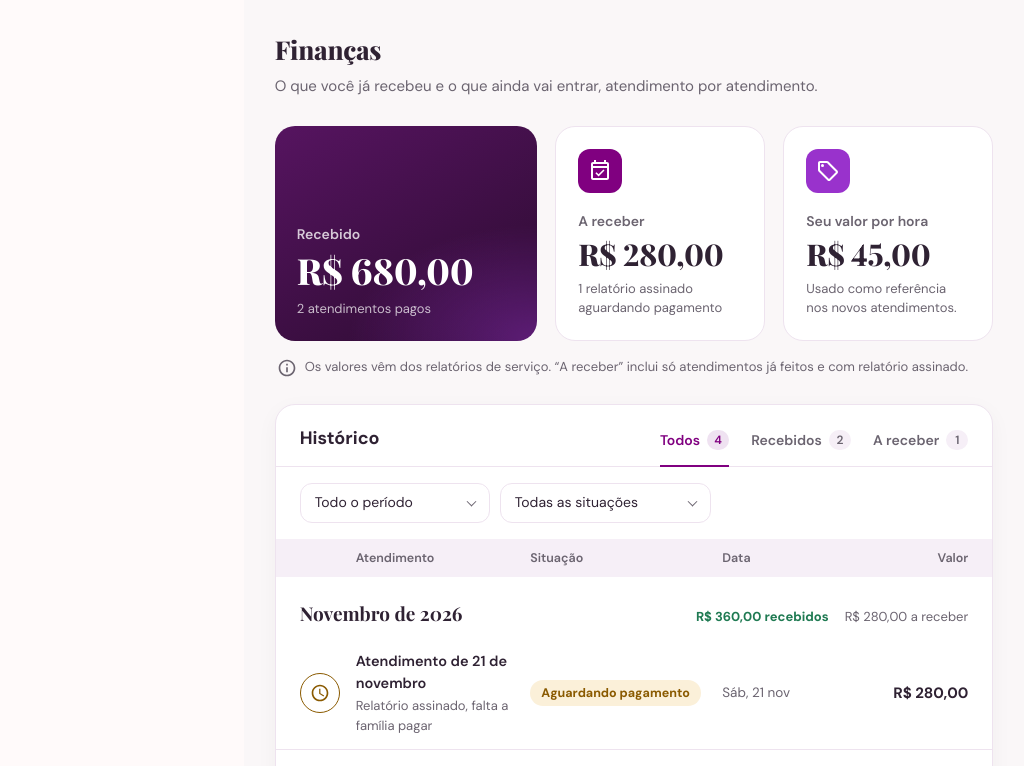
Test case: Finanças do cuidador › filtra por situação e oferece limpar quando nada sobra
Expected: the text "R$ 680,00" is shown, [297,251,473,291]
Select "Reembolsado" in the 2nd dropdown named "Situação" at (605, 502), box [500,482,711,522]
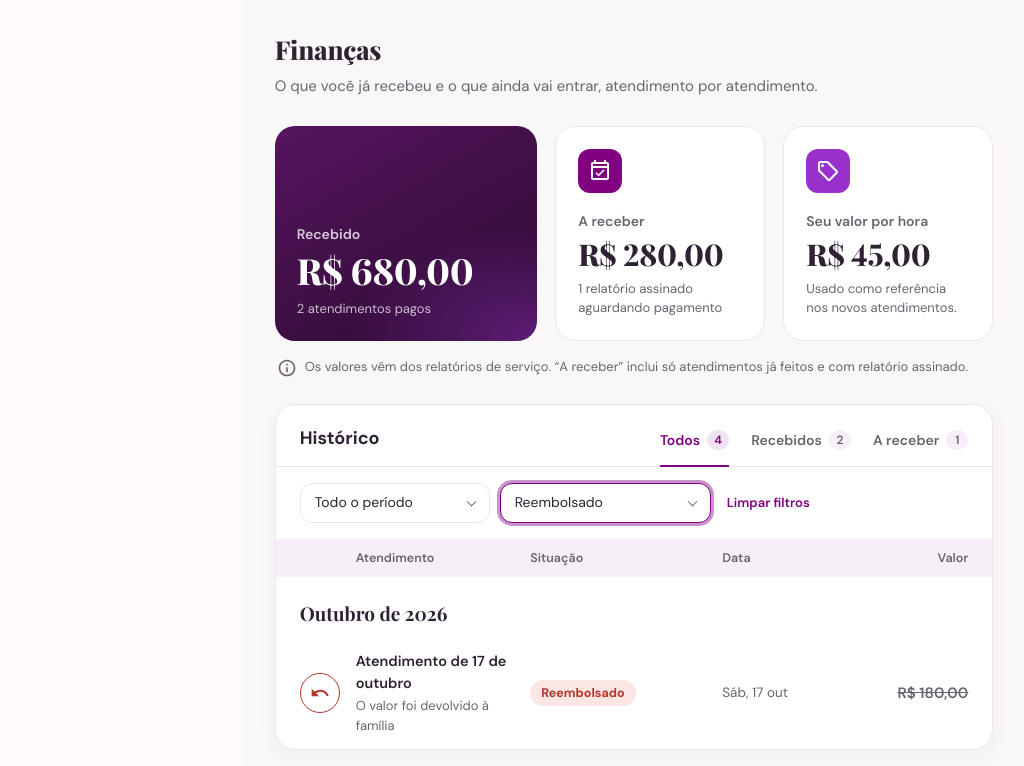
Expected: the list item shows "Reembolsado", [541,685,625,701]
Result: the number of list items is 1 at [276,636,992,749]
Click the tab "Recebidos 2".
click(801, 446)  # box [751,426,851,466]
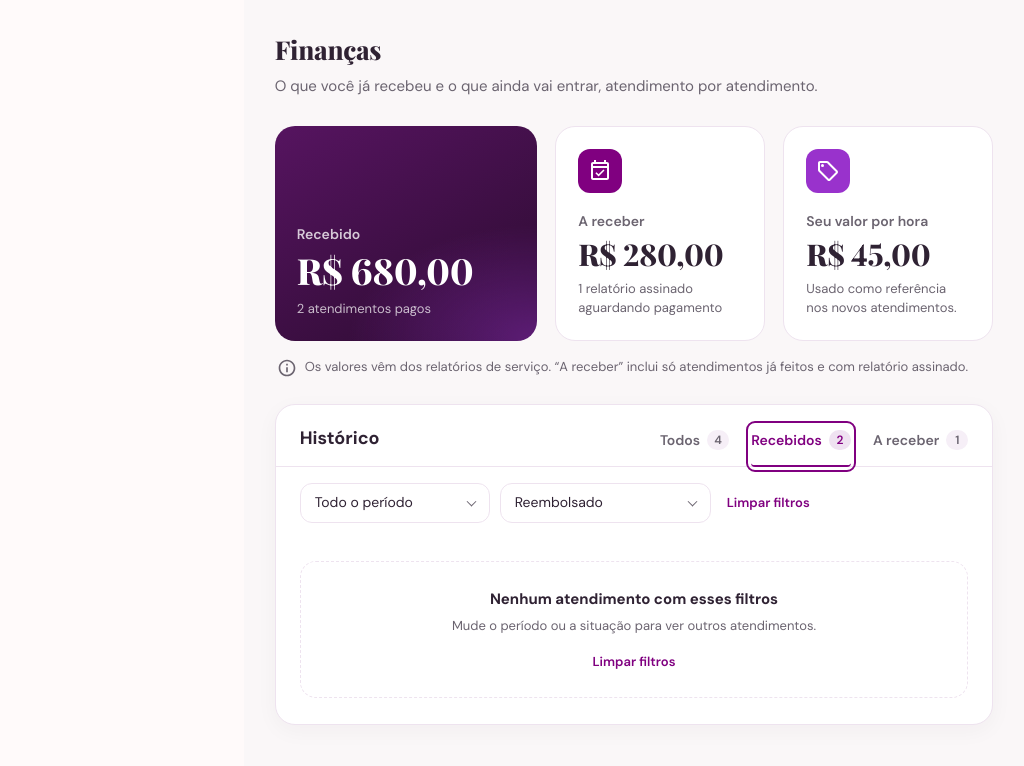
Result: the text "Nenhum atendimento com esses filtros" is shown at [490,588,778,610]
Click the 1st button "Limpar filtros".
click(768, 503)  # box [721,485,816,520]
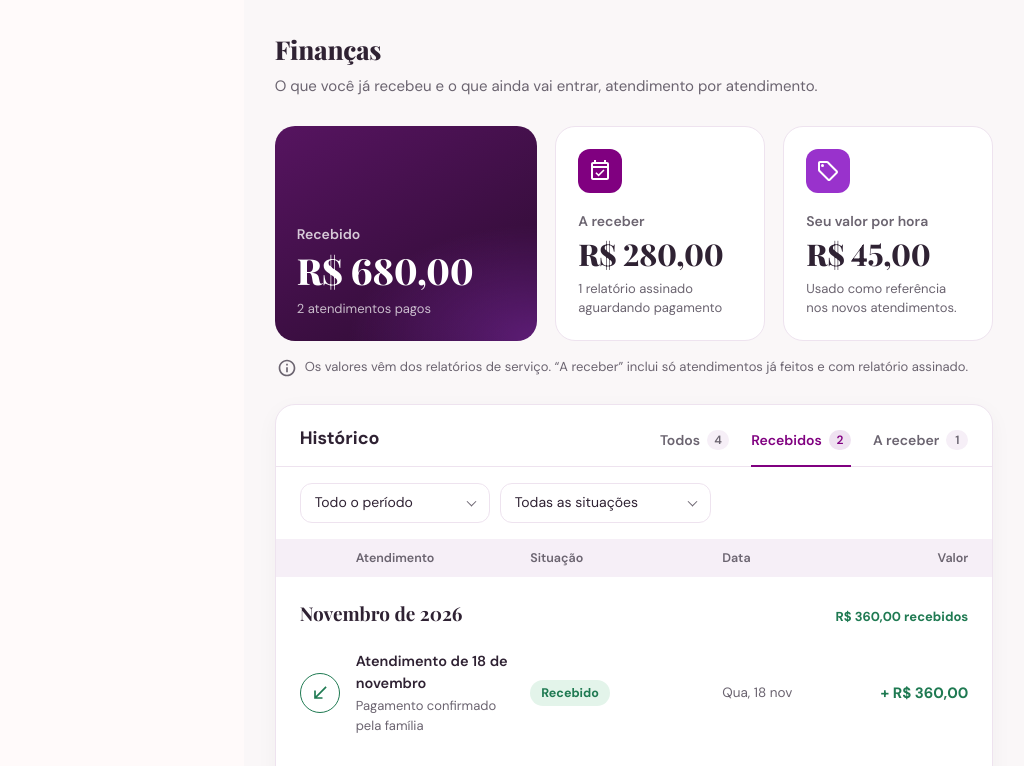
Result: the number of list items is 2
